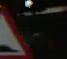Speed Breaker ahead: (0, 2, 33, 56)
